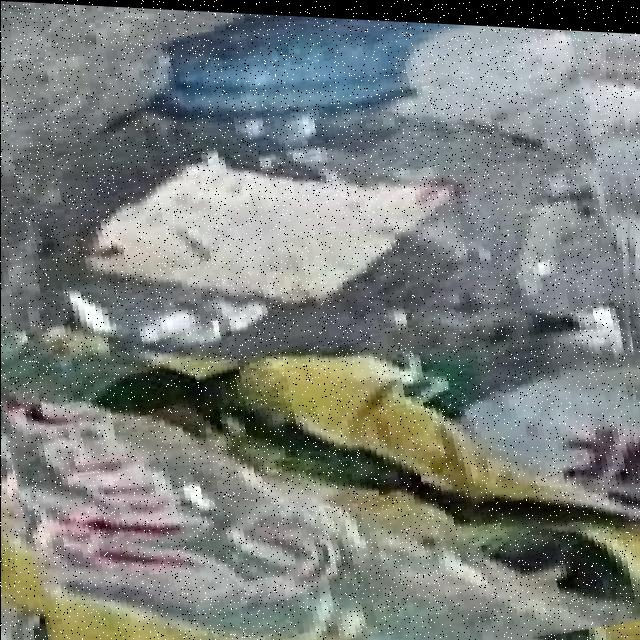plasticbottle: (0, 17, 639, 640)
